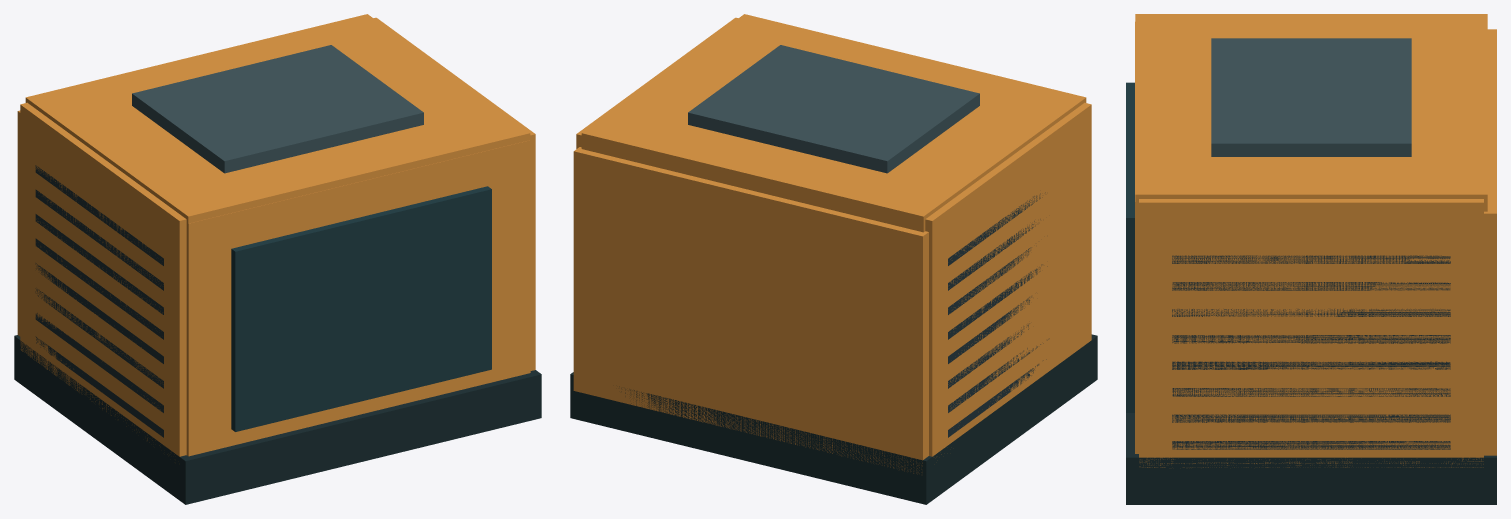
Rendered from foup.glb.
3 renders of one model, left to right at view 1: azimuth 30°, elevation 25°; view 2: azimuth 150°, elevation 25°; view 3: azimuth 270°, elevation 25°, orthographic. The views are drawn at different scales.
Visible parts, largest first — view 1: carrier_shell, front_door; view 2: carrier_shell; view 3: carrier_shell, front_door.
Boxes of the visible parts, x1=… form: carrier_shell: x1=14, y1=14, x2=541, y2=504; front_door: x1=186, y1=140, x2=530, y2=456; carrier_shell: x1=570, y1=14, x2=1097, y2=504; carrier_shell: x1=1126, y1=14, x2=1496, y2=504; front_door: x1=1126, y1=22, x2=1138, y2=453.
Size of the model in its own units: 0.426 by 0.338 by 0.355.
